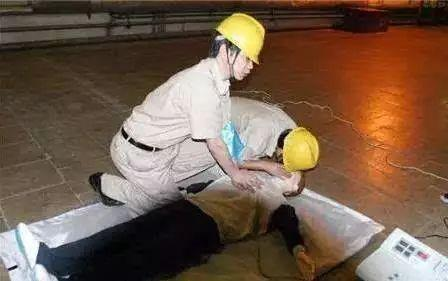bending: (85, 11, 268, 214), (208, 92, 321, 185)
down: (12, 161, 318, 281)
